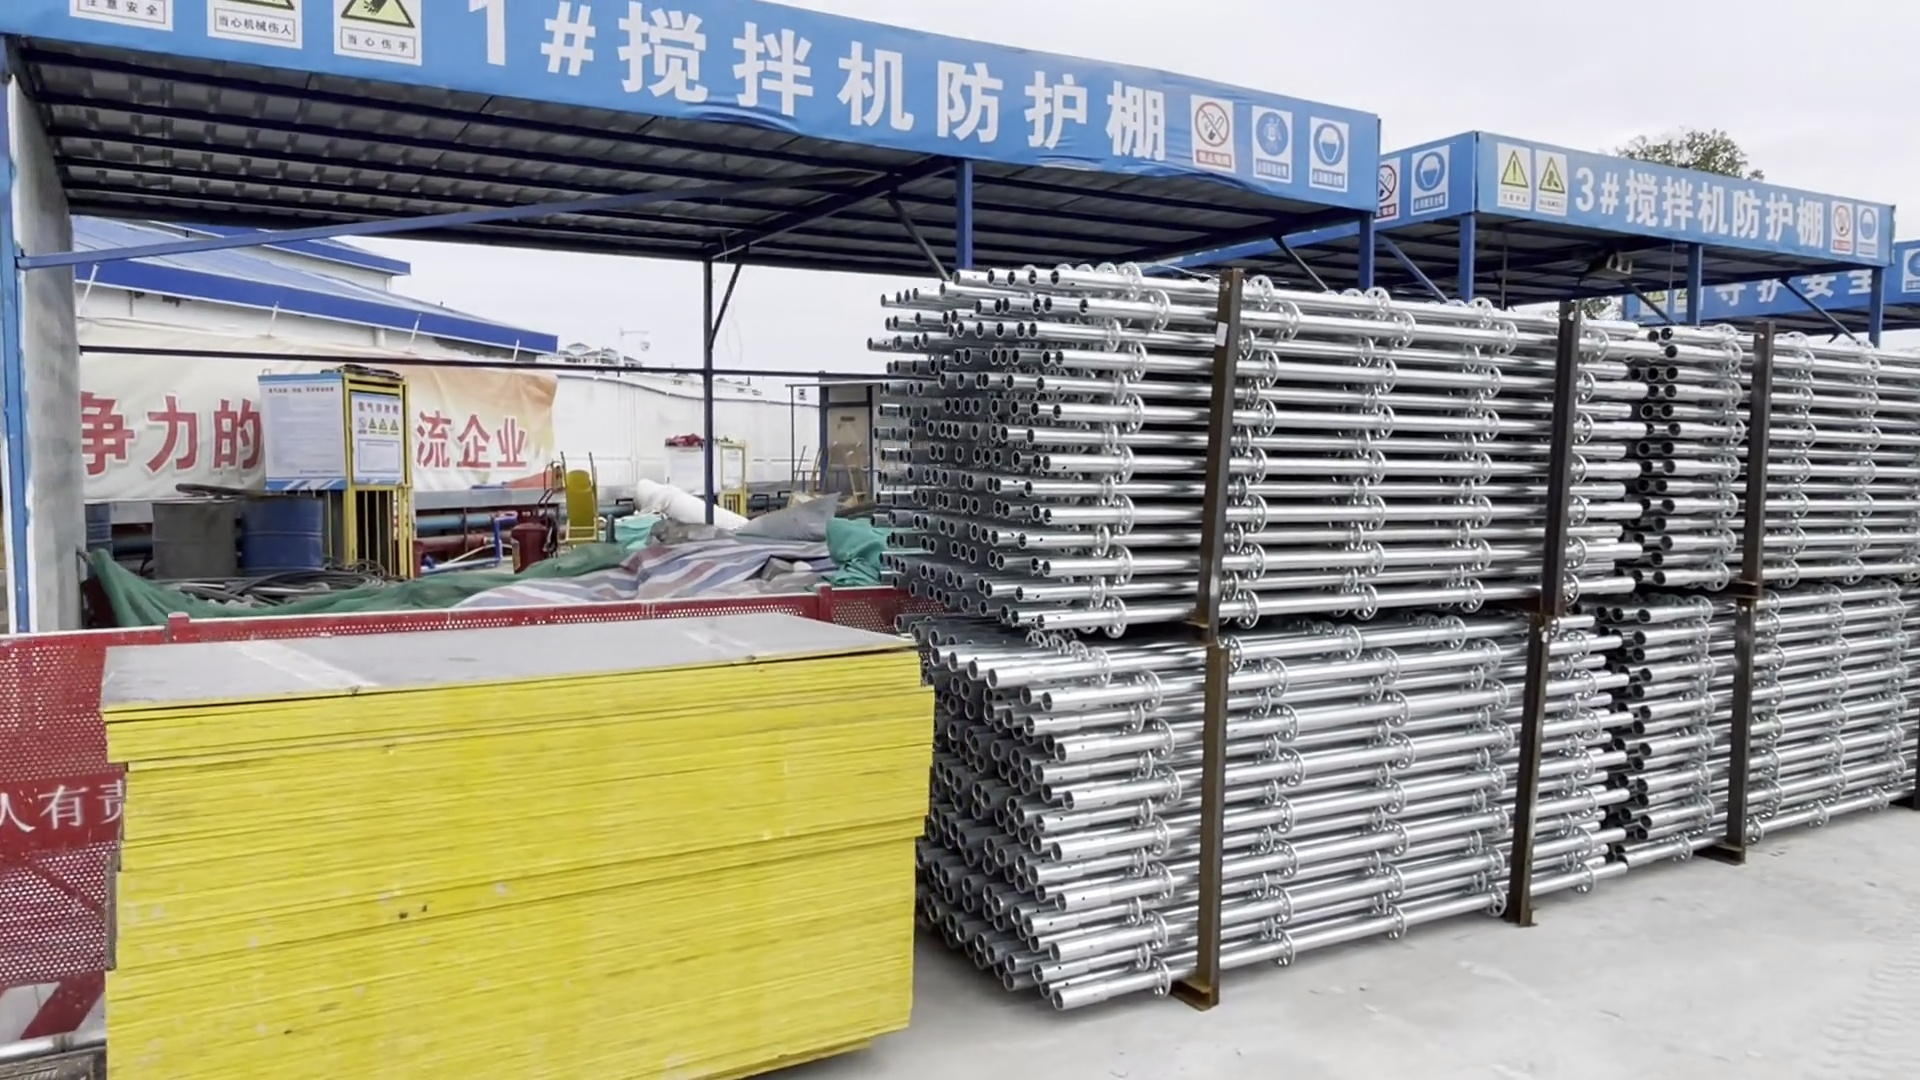board: (76, 626, 949, 1080)
scaffold: (939, 617, 1920, 1033), (851, 276, 1920, 626)
slogan: (1476, 138, 1920, 311), (84, 1, 427, 74), (1158, 99, 1350, 173), (1374, 138, 1447, 236)
